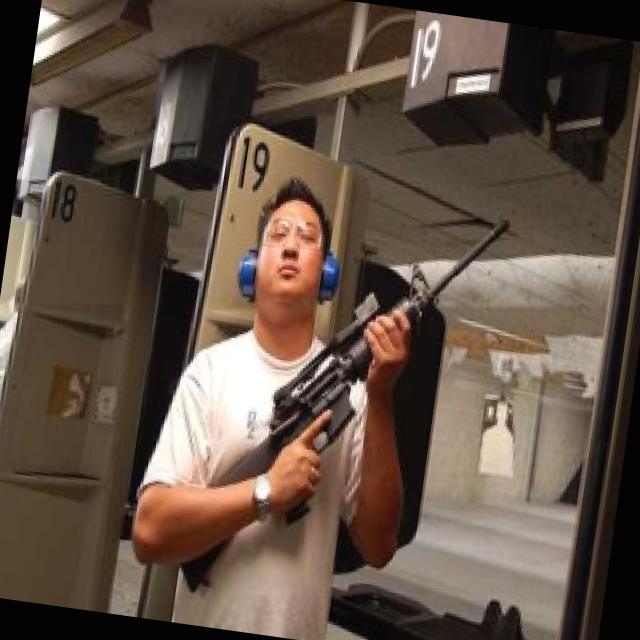long weapon: (200, 196, 547, 549)
